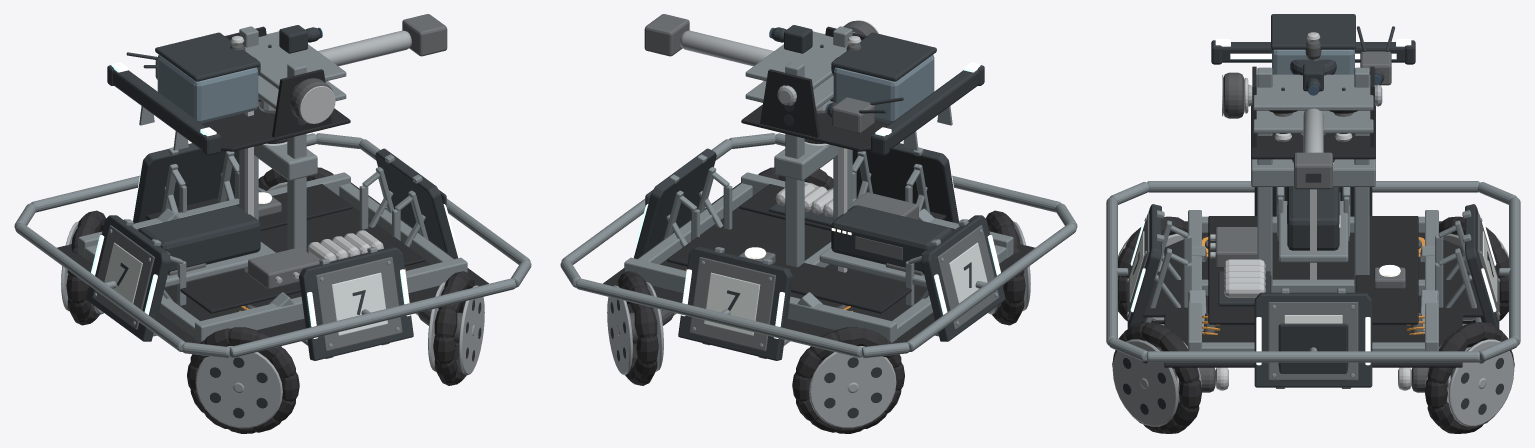
File: robot-303-spec2026v4.glb
3 views of the same model, side by side, from view 1: azimuth 30°, elevation 25°; view 2: azimuth 150°, elevation 25°; view 3: azimuth 270°, elevation 25° (orthographic).
Visible parts, largest first — view 1: Chassis_RobotMatteAluminum, Chassis_CarbonPlate, Chassis_RobotMatteGraphite, Wheel_0_MachinedAlloy, ArmorModuleBody.001, MagazineBox, Turret_CarbonPlate, ArmorModuleBody.003, Wheel_0_PolyurethaneRoller, ArmorModuleBody, ArmorHitFace.003, Turret_RobotMatteGraphite (+22 smaller); view 2: Chassis_RobotMatteAluminum, Chassis_CarbonPlate, Chassis_RobotMatteGraphite, Wheel_1_MachinedAlloy, Turret_CarbonPlate, ArmorModuleBody.003, MagazineBox, ArmorModuleBody.001, Turret_RobotMatteGraphite, Wheel_1_PolyurethaneRoller, ArmorModuleBody, ArmorHitFace.001 (+21 smaller); view 3: Chassis_RobotMatteAluminum, Chassis_CarbonPlate, Chassis_RobotMatteGraphite, GunPitch_RobotMatteAluminum, ArmorModuleBody, Wheel_2_MachinedAlloy, Wheel_3_MachinedAlloy, ArmorHitFace, Turret_CarbonPlate, Wheel_2_PolyurethaneRoller, Wheel_3_PolyurethaneRoller, MagazineLid (+30 smaller).
Boxes of the visible parts, box(x1,y1,x2,y2) form: Chassis_RobotMatteAluminum: box(14, 26, 531, 357); Chassis_CarbonPlate: box(57, 182, 488, 357); Chassis_RobotMatteGraphite: box(139, 189, 446, 273); Wheel_0_MachinedAlloy: box(195, 346, 282, 428); ArmorModuleBody.001: box(133, 143, 239, 223); MagazineBox: box(157, 55, 258, 123); Turret_CarbonPlate: box(201, 26, 350, 151); ArmorModuleBody.003: box(299, 246, 413, 360); Wheel_0_PolyurethaneRoller: box(187, 327, 299, 433); ArmorModuleBody: box(375, 148, 457, 258); ArmorHitFace.003: box(315, 257, 402, 351); Turret_RobotMatteGraphite: box(107, 52, 306, 155); Chassis_RobotMatteAluminum: box(560, 26, 1077, 357); Chassis_CarbonPlate: box(603, 182, 1034, 357); Chassis_RobotMatteGraphite: box(645, 189, 952, 273); Wheel_1_MachinedAlloy: box(809, 346, 896, 428); Turret_CarbonPlate: box(741, 26, 890, 151); ArmorModuleBody.003: box(852, 143, 958, 223); MagazineBox: box(833, 55, 934, 123); ArmorModuleBody.001: box(678, 246, 792, 360); Turret_RobotMatteGraphite: box(783, 65, 984, 155); Wheel_1_PolyurethaneRoller: box(792, 327, 904, 433); ArmorModuleBody: box(634, 148, 716, 258); ArmorHitFace.001: box(689, 257, 776, 351); Chassis_RobotMatteAluminum: box(1106, 67, 1520, 362); Chassis_CarbonPlate: box(1143, 216, 1483, 367); Chassis_RobotMatteGraphite: box(1172, 187, 1454, 381); GunPitch_RobotMatteAluminum: box(1253, 74, 1373, 133); ArmorModuleBody: box(1254, 292, 1372, 387); Wheel_2_MachinedAlloy: box(1112, 339, 1201, 426); Wheel_3_MachinedAlloy: box(1425, 339, 1514, 426); ArmorHitFace: box(1268, 302, 1358, 380); Turret_CarbonPlate: box(1251, 66, 1375, 159); Wheel_2_PolyurethaneRoller: box(1112, 322, 1202, 433); Wheel_3_PolyurethaneRoller: box(1424, 322, 1514, 433); MagazineLid: box(1271, 14, 1355, 49).
Bounding box in the file's own units: 0.5969 × 0.5206 × 0.5969.
